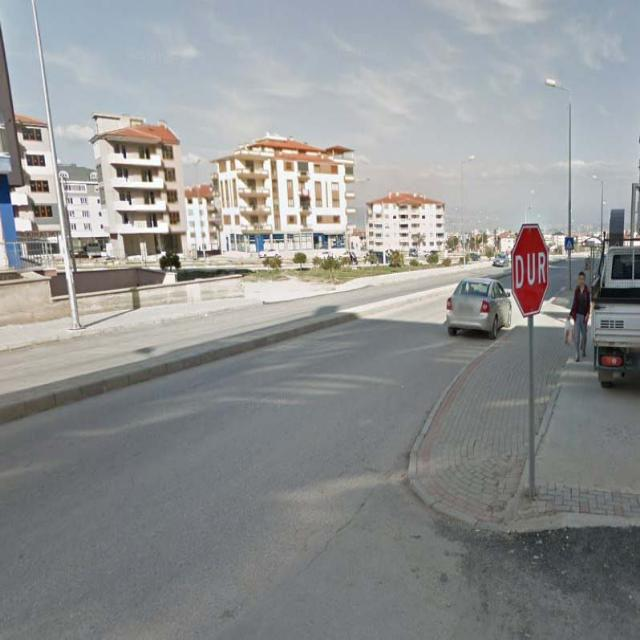dur: (513, 222, 546, 316)
